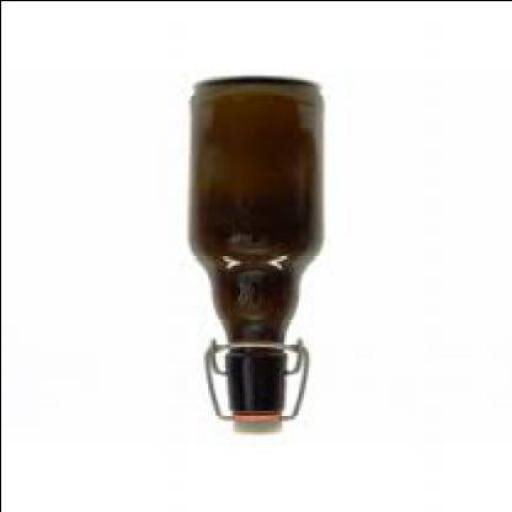glass: (183, 78, 322, 414)
plastic: (229, 414, 278, 438)
